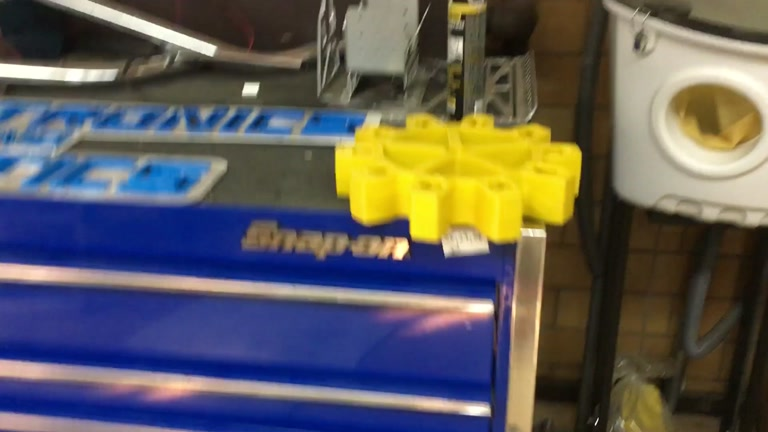gear: (334, 112, 582, 244)
